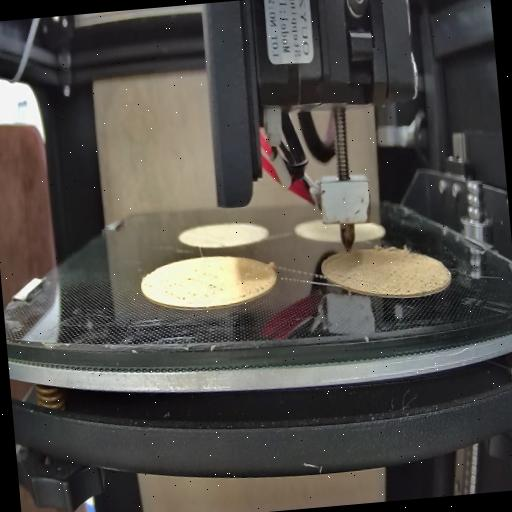under_extrusion: (158, 260, 224, 306), (384, 252, 450, 296), (235, 280, 273, 301), (334, 263, 364, 288)
